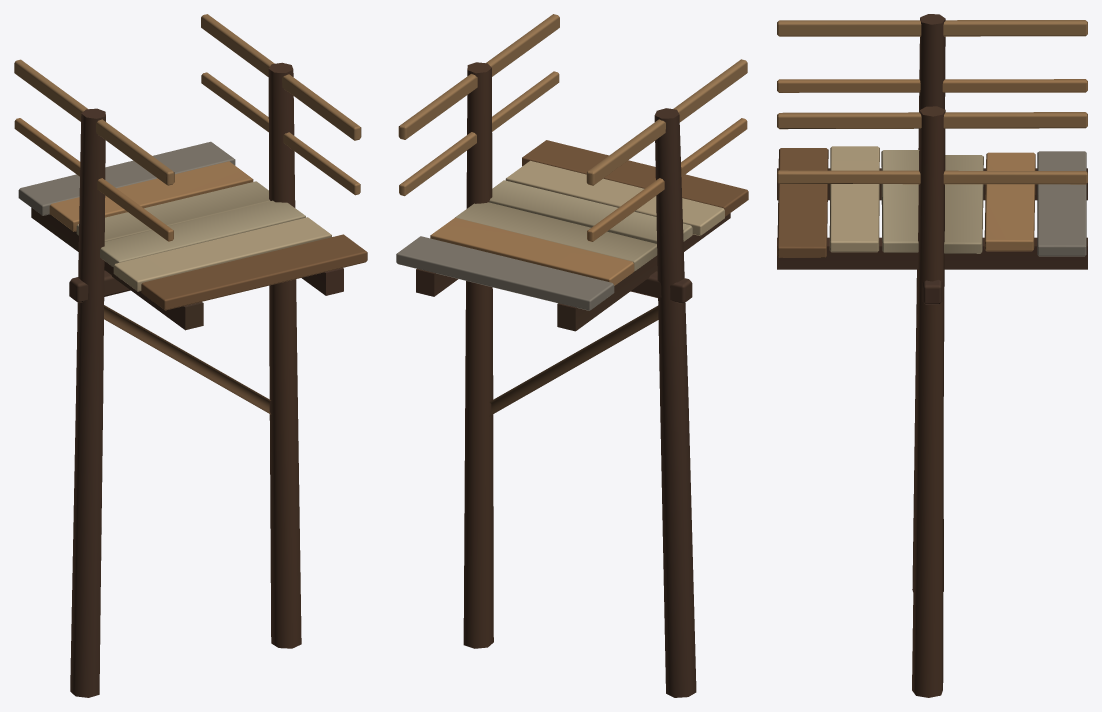
File: plank_walk_piece-BCECWJu7.glb
3 renders of one model, left to right at view 1: azimuth 30°, elevation 25°; view 2: azimuth 150°, elevation 25°; view 3: azimuth 270°, elevation 25°, orthographic.
Parts seen in each view (by area): view 1: plank_walk_piece; view 2: plank_walk_piece; view 3: plank_walk_piece.
Boxes of the visible parts, x1,y1,x2,y2 form: plank_walk_piece: (14, 14, 367, 697); plank_walk_piece: (396, 14, 748, 697); plank_walk_piece: (777, 14, 1087, 697).
Bounding box in the file's own units: 1.92 × 4.52 × 2.2.
